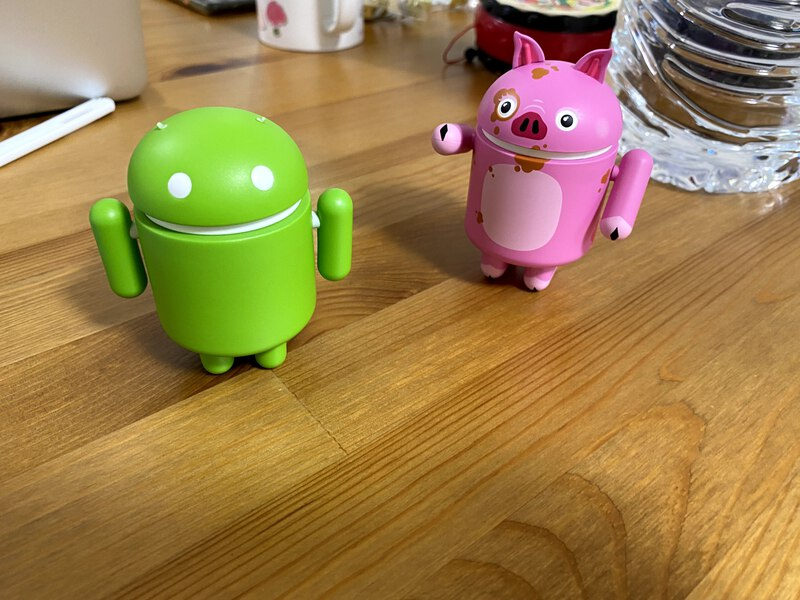android: (93, 101, 358, 378)
pig_android: (438, 28, 654, 296)
